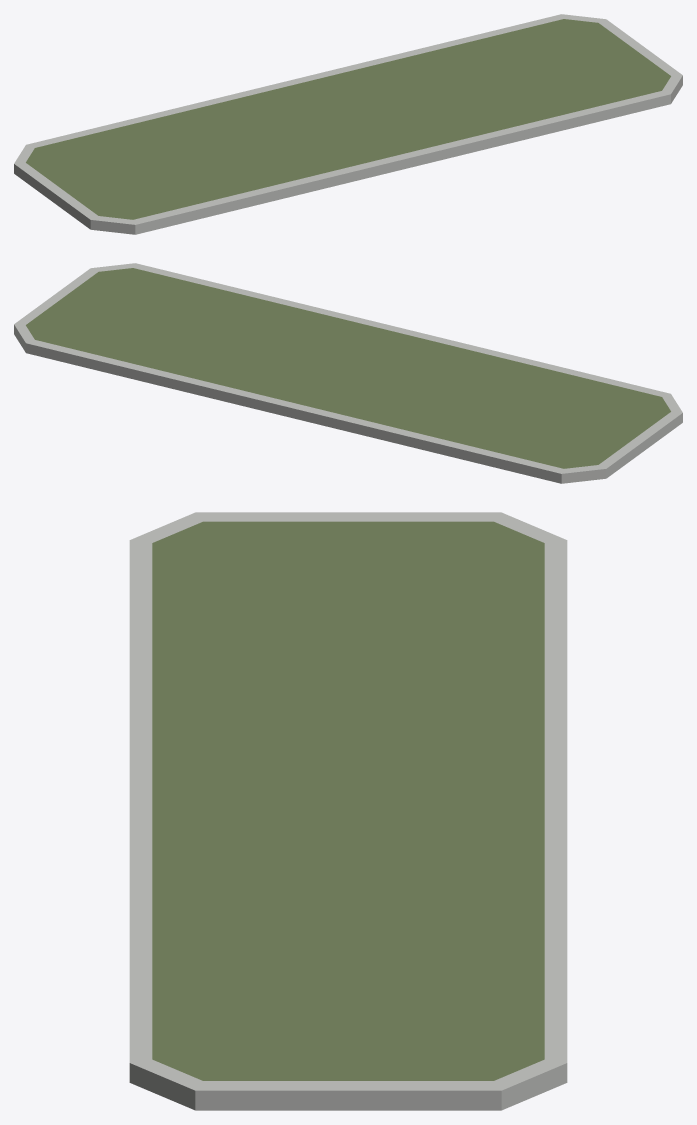
Rendered from GREEN_VERGE_01.glb.
The picture shows the model from 3 angles, top to bottom: view 1: azimuth 30°, elevation 25°; view 2: azimuth 150°, elevation 25°; view 3: azimuth 270°, elevation 25°; orthographic projection. The views are drawn at different scales.
Parts seen in each view (by area): view 1: CIVRUM_GAME_GREEN_VERGE_01; view 2: CIVRUM_GAME_GREEN_VERGE_01; view 3: CIVRUM_GAME_GREEN_VERGE_01.
Part boxes in pixels (x1,y1,x2,y2): CIVRUM_GAME_GREEN_VERGE_01: (14, 14, 682, 234); CIVRUM_GAME_GREEN_VERGE_01: (14, 263, 682, 483); CIVRUM_GAME_GREEN_VERGE_01: (129, 512, 567, 1110).
Bounding box in the file's own units: 10 × 0.162 × 3.2.
